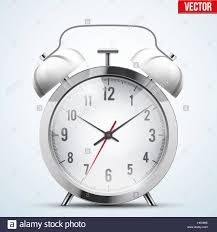alarm_clock: (34, 20, 182, 210), (40, 20, 182, 210)
